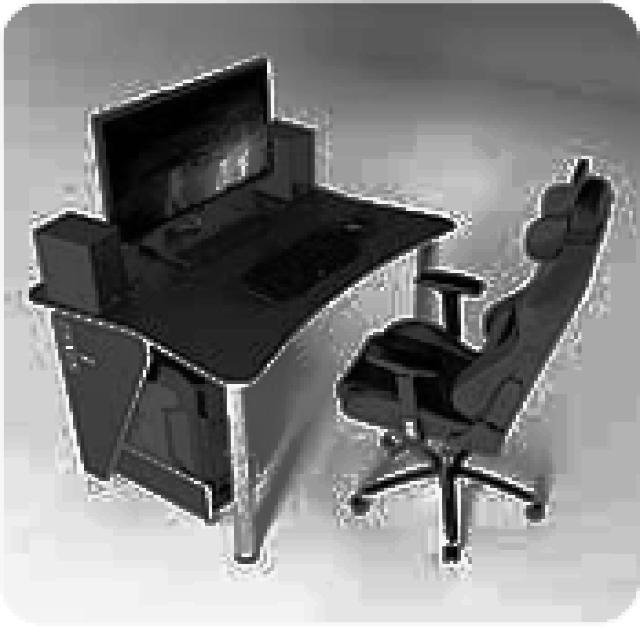book: (333, 155, 611, 560)
table: (26, 180, 453, 560)
